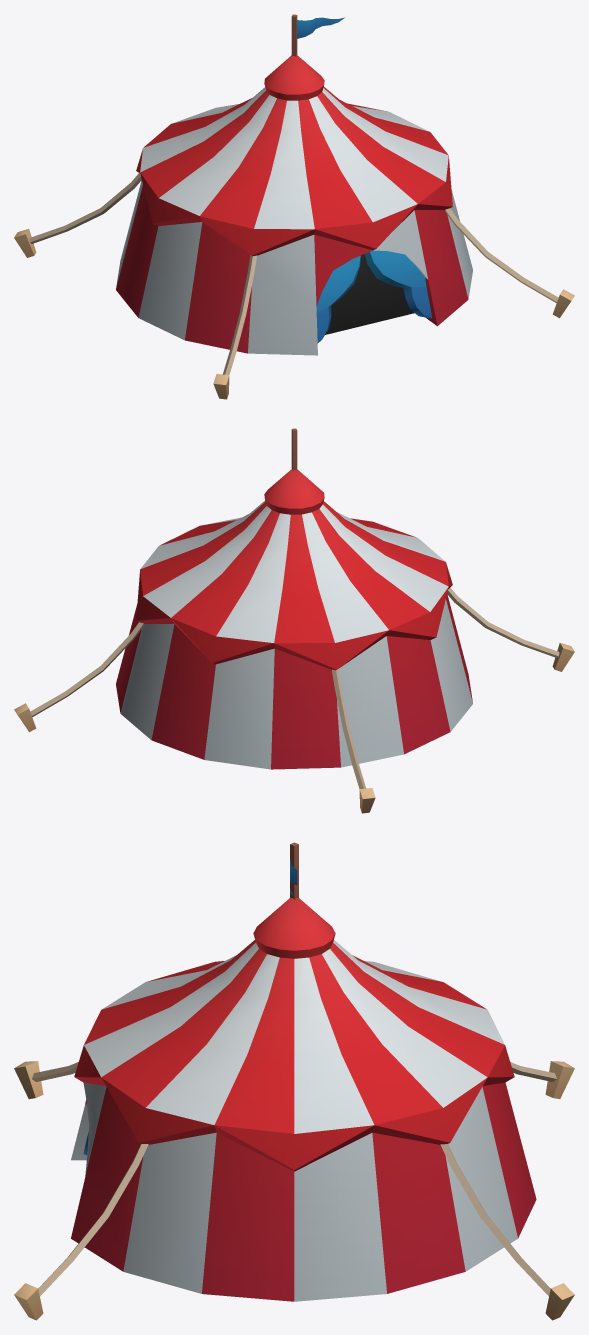
Rendered from circus_tent.glb.
3 renders of one model, top to bottom at view 1: azimuth 30°, elevation 25°; view 2: azimuth 150°, elevation 25°; view 3: azimuth 270°, elevation 25°, orthographic. The views are drawn at different scales.
Visible parts, largest first — view 1: circus_tent; view 2: circus_tent; view 3: circus_tent.
Part boxes in pixels (x1,y1,x2,y2): circus_tent: [14, 14, 574, 399]; circus_tent: [14, 428, 574, 813]; circus_tent: [14, 842, 574, 1320].
Bounding box in the file's own units: 3.48 × 2.49 × 3.48.
1 material, 1 textured.
